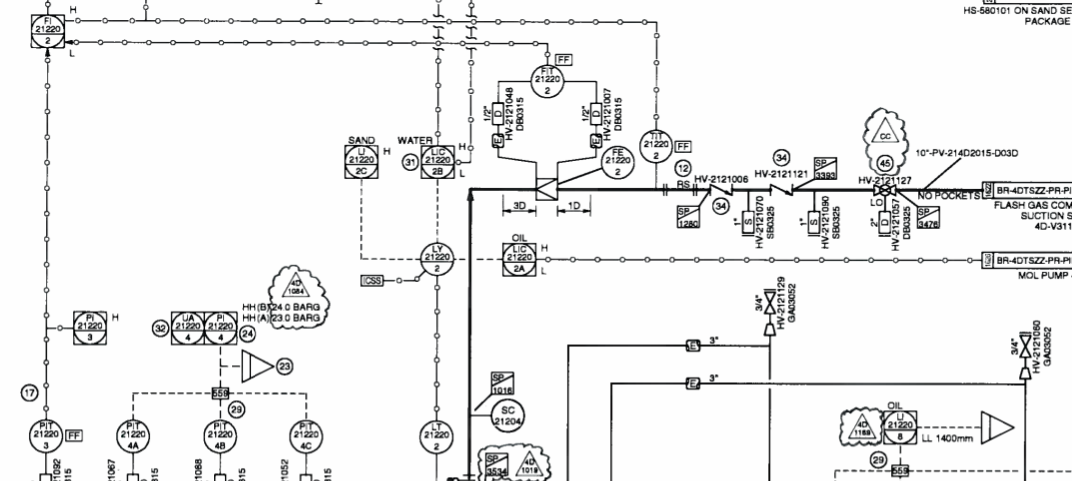Instrument: (194, 417, 243, 456), (527, 57, 567, 103), (415, 236, 458, 278), (284, 416, 328, 457), (112, 416, 154, 457), (24, 415, 67, 453), (419, 413, 455, 457), (602, 144, 642, 183), (637, 124, 674, 166)
Instrument-square: (25, 9, 70, 56), (336, 141, 384, 183), (878, 407, 921, 450), (498, 238, 540, 282), (417, 142, 460, 183), (70, 305, 109, 349), (167, 307, 205, 347), (204, 308, 239, 348)
